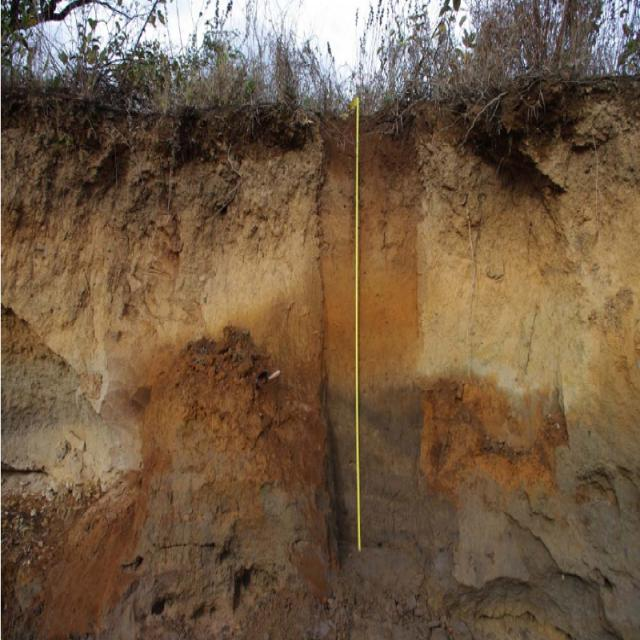Alluvial Soil: (15, 220, 338, 618), (401, 252, 631, 561)
